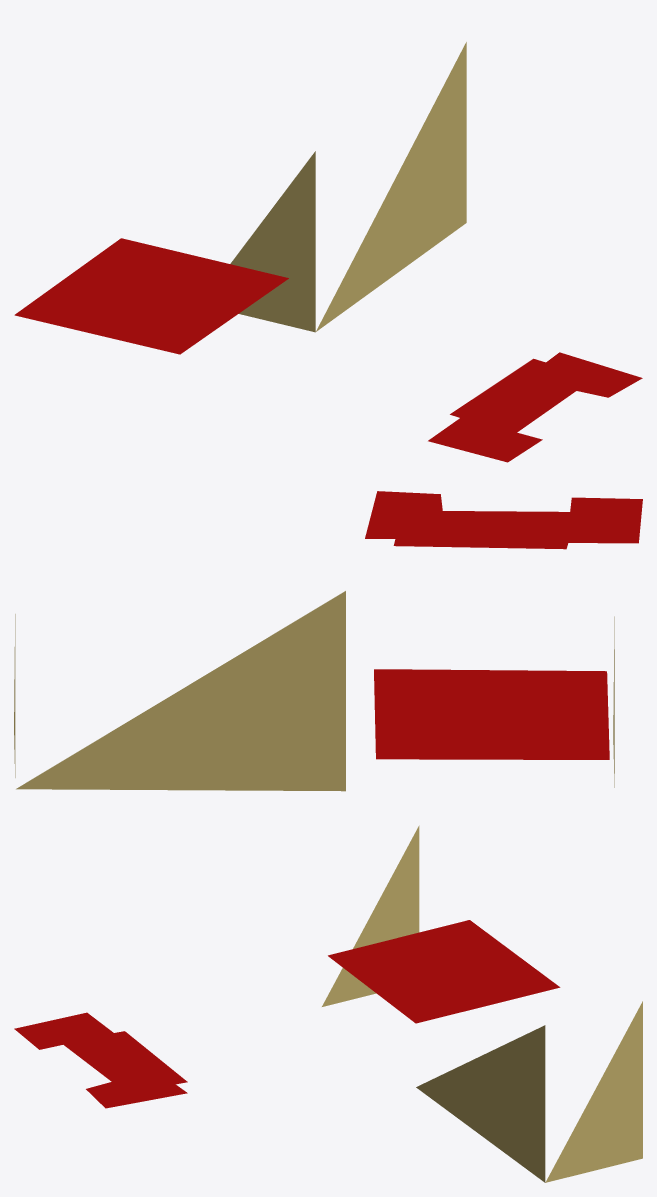
3 views of the same model, one above another, from view 1: azimuth 30°, elevation 25°; view 2: azimuth 150°, elevation 25°; view 3: azimuth 270°, elevation 25° (orthographic). The views are drawn at different scales.
Size of the model in its own units: 107 by 37.5 by 135.
